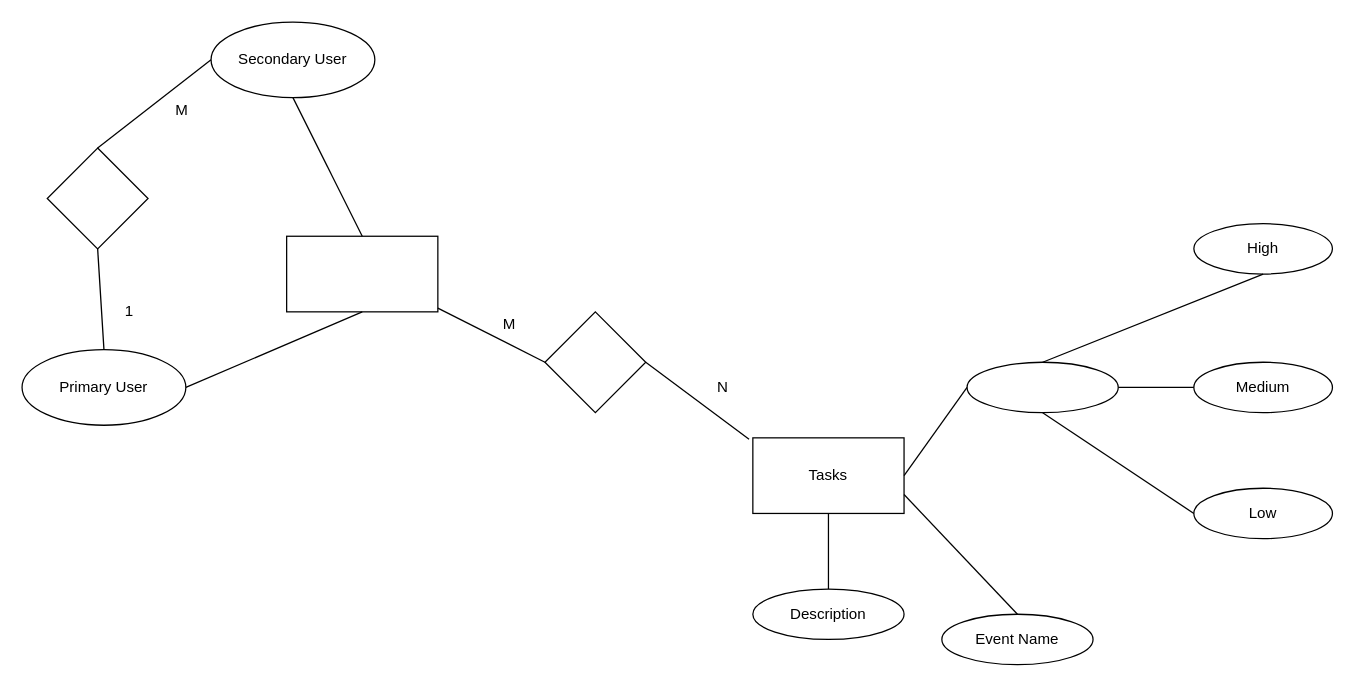
This 1355x687 diagram has some shape labels left out. Here are the shapes that lost their labels. From the top down, the centre of each, then its label:
At (x=97, y=198): "Interacts with".
At (x=361, y=273): "Users".
At (x=595, y=362): "Completes".
At (x=1042, y=387): "Priority Level".
